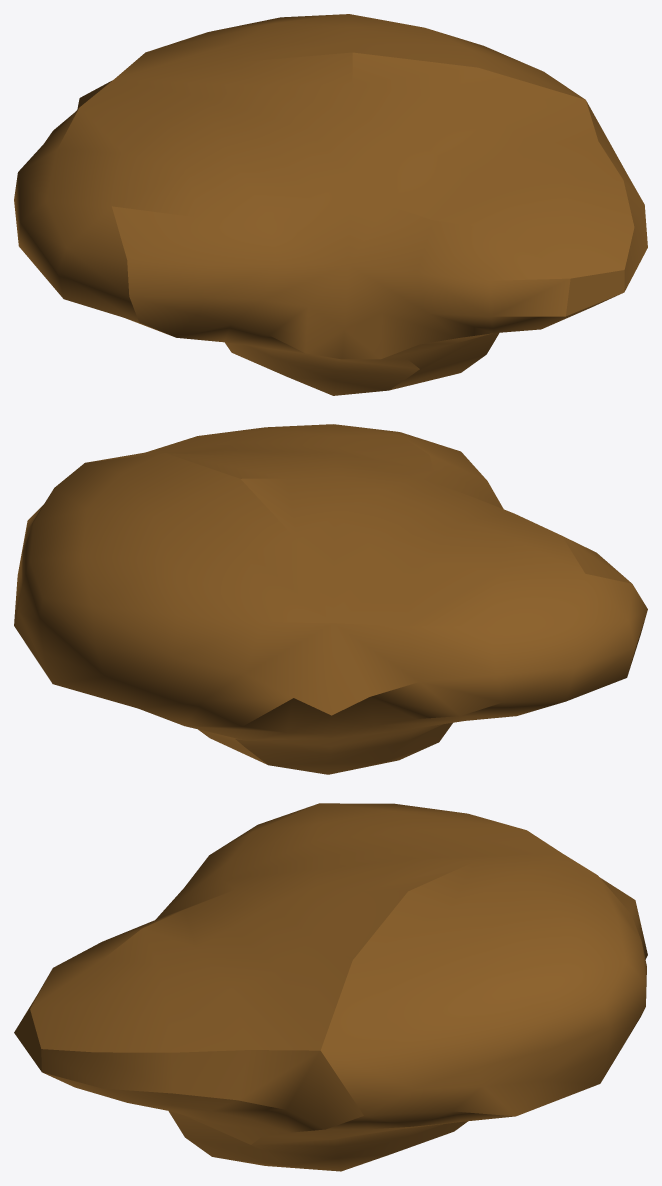
Rendered from Rock_Extra_01.fbx.
3 renders of one model, top to bottom at view 1: azimuth 30°, elevation 25°; view 2: azimuth 150°, elevation 25°; view 3: azimuth 270°, elevation 25°, orthographic. The views are drawn at different scales.
Visible parts, largest first — view 1: rock.007; view 2: rock.007; view 3: rock.007.
Boxes of the visible parts, box(x1,y1,x2,y2) form: rock.007: box(14, 14, 647, 395); rock.007: box(14, 424, 647, 774); rock.007: box(14, 803, 647, 1171).
Size of the model in its own units: 93.05 by 43.7 by 89.4.
1 material, 1 textured.
